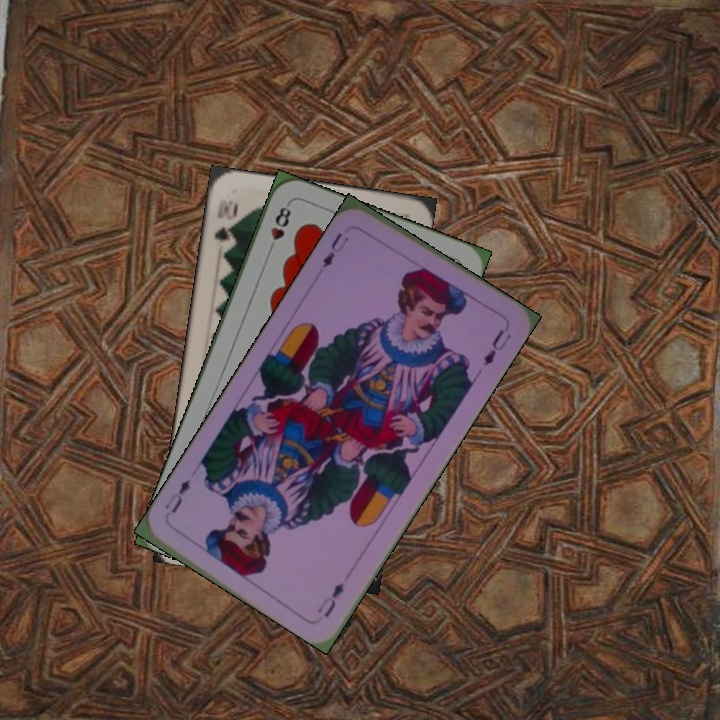EU: (318, 228, 352, 271), (313, 578, 347, 621)
G10: (210, 195, 237, 245)
H8: (264, 200, 294, 257)
